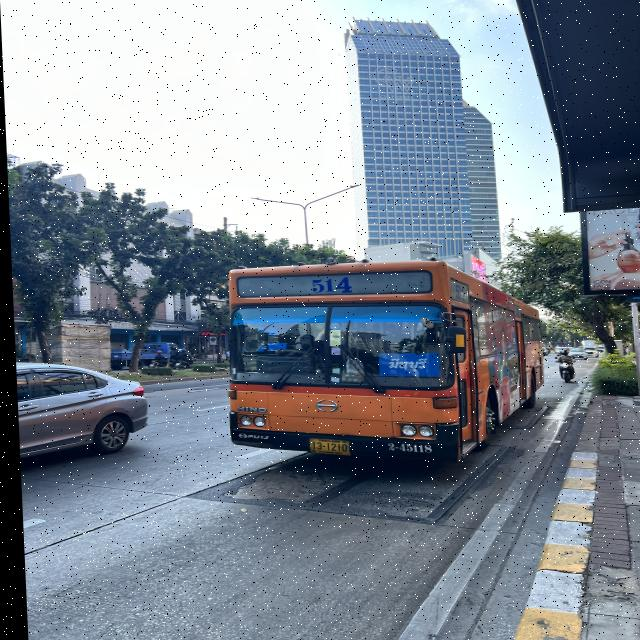BMTA-bus: (209, 255, 548, 470)
Bus Line Number: (300, 274, 356, 295)
Bus Side Number: (381, 440, 432, 454)
Destination Sign: (374, 351, 439, 379)
